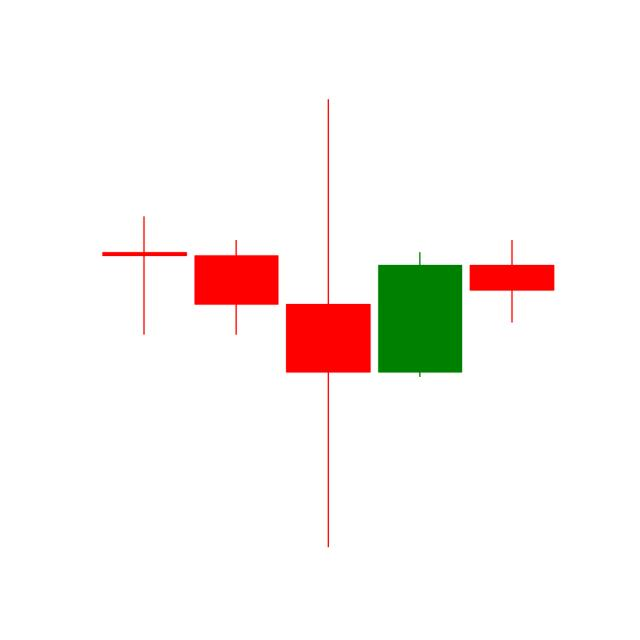Hanging Man: (191, 233, 279, 334)
Standard Doji: (100, 210, 188, 339)
spinning top: (284, 96, 373, 547), (464, 238, 558, 323)
